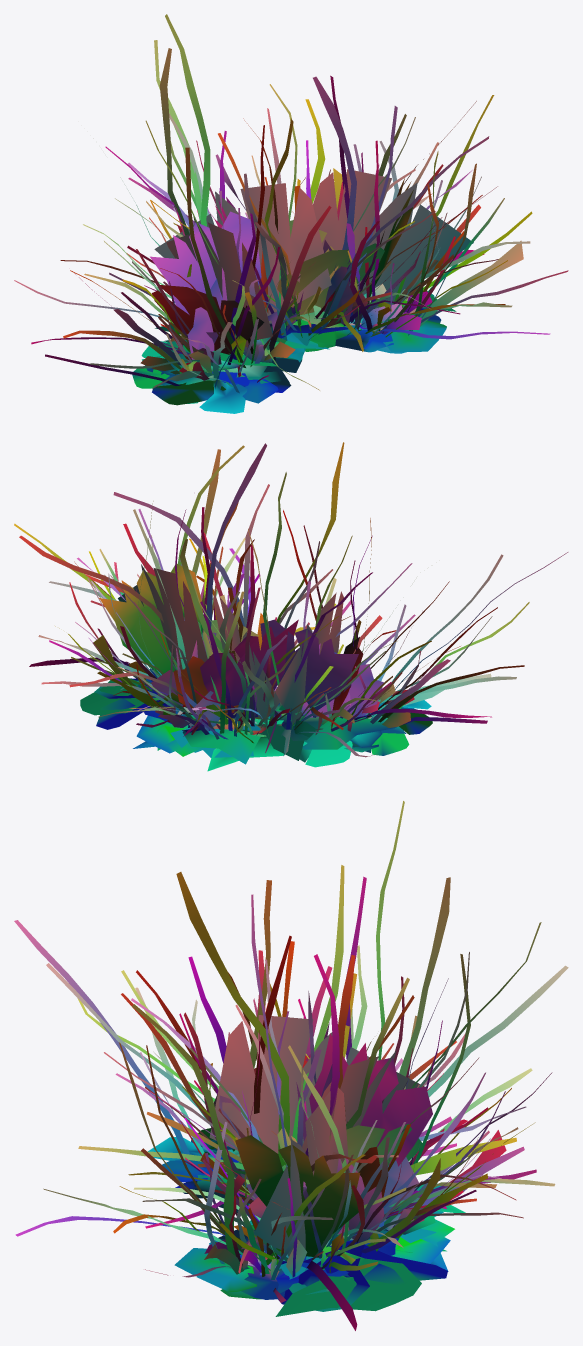
Rendered from Wild_Grass_vdilbaiia_Mid_vdilbaiia_VarH_LOD1.fbx.
3 renders of one model, top to bottom at view 1: azimuth 30°, elevation 25°; view 2: azimuth 150°, elevation 25°; view 3: azimuth 270°, elevation 25°, orthographic. The views are drawn at different scales.
Visible parts, largest first — view 1: _423c_VarH_LOD2; view 2: _423c_VarH_LOD2; view 3: _423c_VarH_LOD2.
Part boxes in pixels (left/top/right/bottom): _423c_VarH_LOD2: left=14, top=14, right=568, bottom=413; _423c_VarH_LOD2: left=14, top=442, right=568, bottom=771; _423c_VarH_LOD2: left=14, top=801, right=568, bottom=1330.
Bounding box in the file's own units: 151 × 94.41 × 123.
